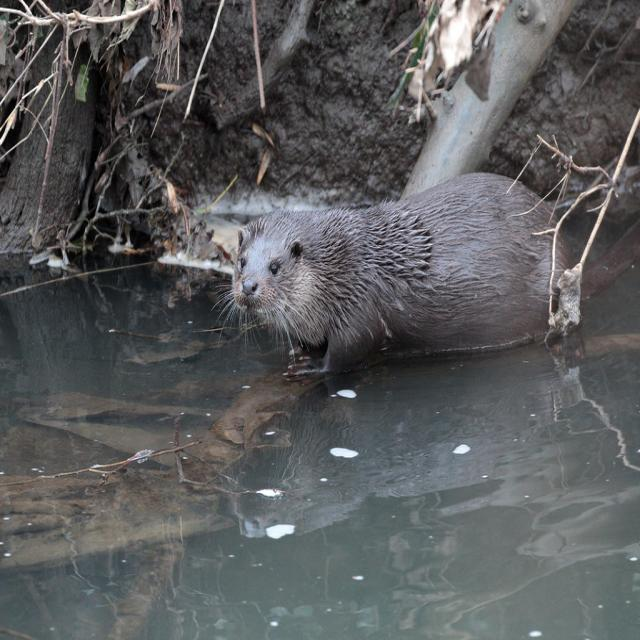otter: (237, 177, 568, 374)
